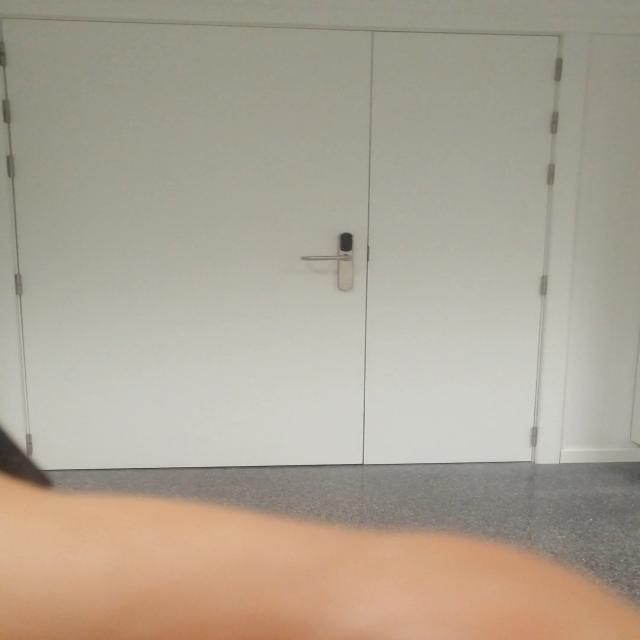door_handle: (294, 254, 357, 263)
